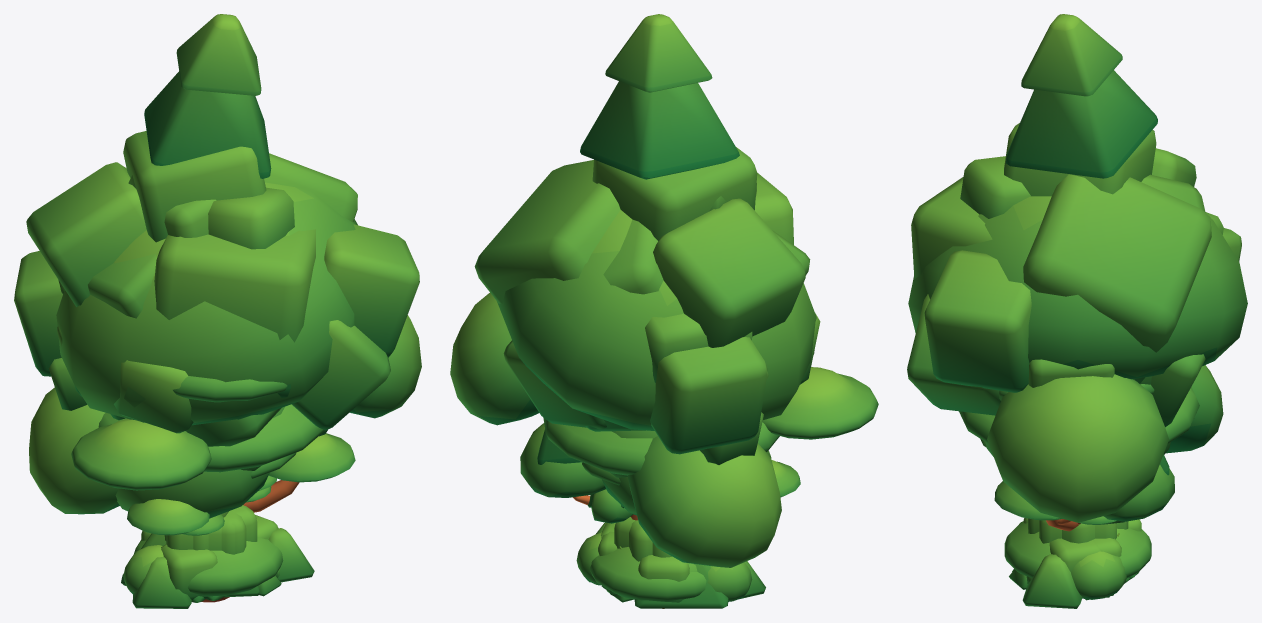
File: nature.glb
3 renders of one model, left to right at view 1: azimuth 30°, elevation 25°; view 2: azimuth 150°, elevation 25°; view 3: azimuth 270°, elevation 25°, orthographic.
Parts seen in each view (by area): view 1: Tree_2_E_Color1, Tree_1_C_Color1, Tree_4_C_Color1, Tree_3_C_Color1, Tree_3_B_Color1, Tree_2_D_Color1, Tree_1_A_Color1, Bush_4_F_Color1, Bush_3_C_Color1, Bush_2_E_Color1, Bush_2_F_Color1, Tree_2_C_Color1 (+3 smaller); view 2: Tree_2_E_Color1, Tree_1_C_Color1, Tree_4_C_Color1, Tree_3_C_Color1, Tree_3_B_Color1, Tree_2_D_Color1, Tree_1_B_Color1, Bush_3_C_Color1, Bush_1_G_Color1, Bush_2_E_Color1, Tree_1_A_Color1, Bush_4_E_Color1 (+1 smaller); view 3: Tree_2_E_Color1, Tree_1_C_Color1, Tree_4_C_Color1, Bush_3_C_Color1, Bush_4_F_Color1, Bush_1_G_Color1, Tree_1_B_Color1, Bush_2_E_Color1, Tree_3_C_Color1, Tree_3_B_Color1, Tree_2_D_Color1, Bush_2_C_Color1 (+1 smaller).
Part boxes in pixels (x1,y1,x2,y2): Tree_2_E_Color1: (14,131,419,446); Tree_1_C_Color1: (29,182,421,602); Tree_4_C_Color1: (128,14,271,188); Tree_3_C_Color1: (71,376,355,602); Tree_3_B_Color1: (98,404,324,535); Tree_2_D_Color1: (58,199,216,318); Tree_1_A_Color1: (115,469,269,518); Bush_4_F_Color1: (132,528,314,608); Bush_3_C_Color1: (133,537,283,596); Bush_2_E_Color1: (141,505,278,600); Bush_2_F_Color1: (166,510,246,553); Tree_2_C_Color1: (48,326,87,410); Tree_2_E_Color1: (474,147,820,454); Tree_1_C_Color1: (450,210,816,567); Tree_4_C_Color1: (537,14,739,464); Tree_3_C_Color1: (630,367,878,608); Tree_3_B_Color1: (543,418,800,497); Tree_2_D_Color1: (585,183,810,431); Tree_1_B_Color1: (520,423,657,504); Bush_3_C_Color1: (589,547,706,601); Bush_1_G_Color1: (576,532,752,601); Bush_2_E_Color1: (601,520,689,602); Tree_1_A_Color1: (591,450,771,523); Bush_4_E_Color1: (606,563,728,608); Tree_2_E_Color1: (907,123,1241,427); Tree_1_C_Color1: (908,196,1247,522); Tree_4_C_Color1: (1006,14,1169,475); Bush_3_C_Color1: (1004,521,1151,578); Bush_4_F_Color1: (1009,554,1134,608); Bush_1_G_Color1: (1028,551,1126,599); Tree_1_B_Color1: (1103,465,1174,521); Bush_2_E_Color1: (1023,518,1141,583); Tree_3_C_Color1: (994,384,1154,531); Tree_3_B_Color1: (959,387,1199,447); Tree_2_D_Color1: (999,174,1205,400); Bush_2_C_Color1: (1039,520,1116,543).
Bounding box in the file's own units: 7.18 × 10.88 × 5.77.
1 material, 1 textured.
